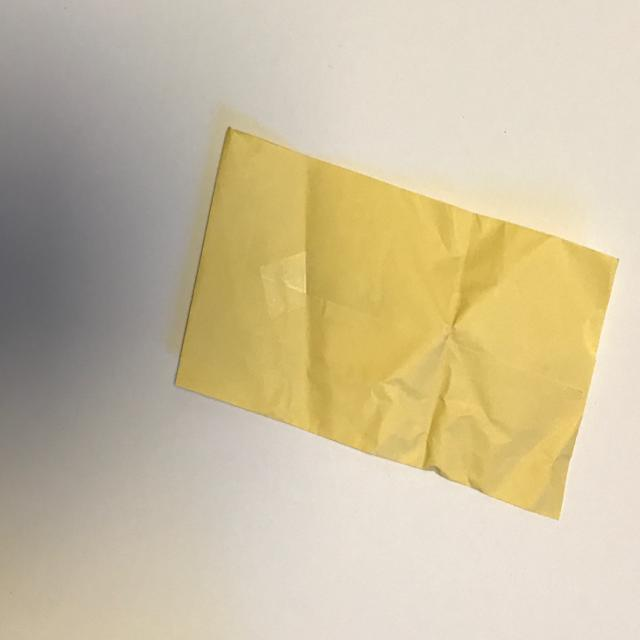paper: (174, 126, 622, 524)
